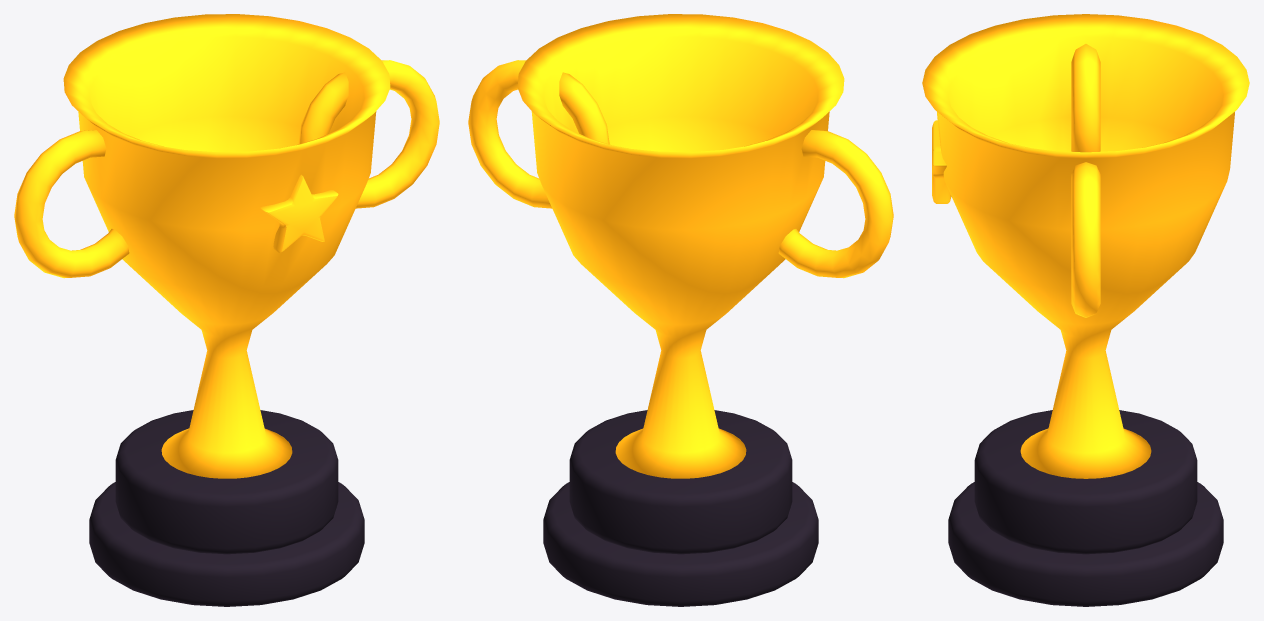
Rendered from trophy.glb.
3 renders of one model, left to right at view 1: azimuth 30°, elevation 25°; view 2: azimuth 150°, elevation 25°; view 3: azimuth 270°, elevation 25°, orthographic.
Visible parts, largest first — view 1: Trophy; view 2: Trophy; view 3: Trophy.
Part boxes in pixels (left/top/right/bottom): Trophy: left=14, top=14, right=439, bottom=606; Trophy: left=468, top=14, right=893, bottom=606; Trophy: left=922, top=14, right=1249, bottom=606.
Bounding box in the file's own units: 1.49 × 1.58 × 1.
